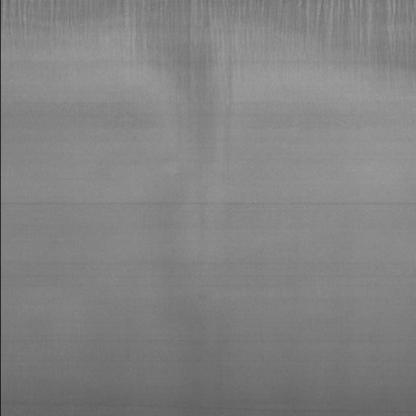waist_folding: (37, 8, 416, 90)
